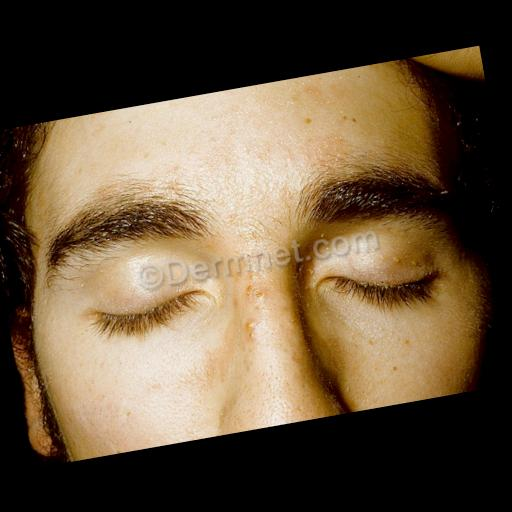Skin_Lesion: (235, 264, 269, 304), (240, 312, 260, 334), (300, 111, 314, 127)
